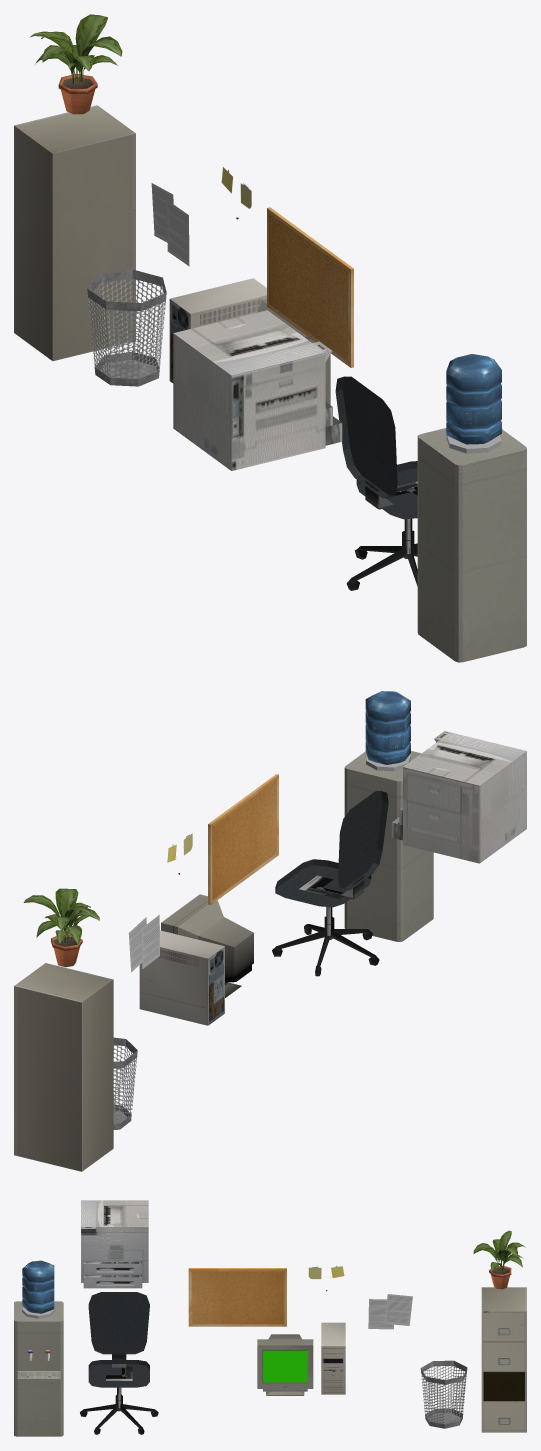
File: office.glb
The picture shows the model from 3 angles, top to bottom: view 1: azimuth 30°, elevation 25°; view 2: azimuth 150°, elevation 25°; view 3: azimuth 270°, elevation 25°; orthographic projection. The views are drawn at different scales.
Parts seen in each view (by area): view 1: 4 Drawer Filing Cabinet, Water Cooler, Printer, Corkboard, Chair, Trash Cam, Water Jug, Potted Plant, PC Tower, Pinned Notes; view 2: 4 Drawer Filing Cabinet, Printer, Water Cooler, Chair, PC Tower, Corkboard, Computer Monitor, Water Jug, Potted Plant, Trash Cam, Pinned Notes; view 3: 4 Drawer Filing Cabinet, Water Cooler, Chair, Corkboard, Printer, Computer Monitor, Trash Cam, PC Tower, Water Jug, Pinned Notes, Potted Plant, Tray 1 (+1 smaller).
Boxes of the visible parts, x1=… form: 4 Drawer Filing Cabinet: x1=14, y1=105, x2=135, y2=361; Water Cooler: x1=417, y1=428, x2=526, y2=662; Printer: x1=173, y1=310, x2=332, y2=470; Corkboard: x1=267, y1=207, x2=353, y2=367; Chair: x1=335, y1=376, x2=417, y2=590; Trash Cam: x1=87, y1=269, x2=166, y2=386; Water Jug: x1=446, y1=354, x2=501, y2=444; Potted Plant: x1=30, y1=14, x2=122, y2=114; PC Tower: x1=169, y1=278, x2=266, y2=383; Pinned Notes: x1=151, y1=183, x2=189, y2=266; 4 Drawer Filing Cabinet: x1=14, y1=963, x2=113, y2=1171; Printer: x1=403, y1=731, x2=526, y2=863; Water Cooler: x1=344, y1=751, x2=433, y2=941; Chair: x1=272, y1=791, x2=388, y2=976; PC Tower: x1=139, y1=930, x2=224, y2=1025; Corkboard: x1=208, y1=774, x2=278, y2=904; Computer Monitor: x1=161, y1=894, x2=253, y2=997; Water Jug: x1=365, y1=691, x2=410, y2=764; Potted Plant: x1=23, y1=888, x2=99, y2=967; Trash Cam: x1=113, y1=1037, x2=137, y2=1129; Pinned Notes: x1=128, y1=915, x2=159, y2=972; 4 Drawer Filing Cabinet: x1=481, y1=1287, x2=526, y2=1432; Water Cooler: x1=14, y1=1301, x2=63, y2=1436; Chair: x1=80, y1=1292, x2=158, y2=1434; Corkboard: x1=188, y1=1268, x2=286, y2=1326; Printer: x1=81, y1=1200, x2=148, y2=1282; Computer Monitor: x1=257, y1=1334, x2=313, y2=1395; Trash Cam: x1=420, y1=1360, x2=467, y2=1428; PC Tower: x1=321, y1=1322, x2=345, y2=1394; Water Jug: x1=22, y1=1260, x2=54, y2=1313; Pinned Notes: x1=368, y1=1294, x2=412, y2=1329; Potted Plant: x1=473, y1=1230, x2=525, y2=1289; Tray 1: x1=83, y1=1261, x2=142, y2=1274.
Size of the model in its own units: 1.24 by 1.45 by 3.62.
14 materials, 13 textured.
